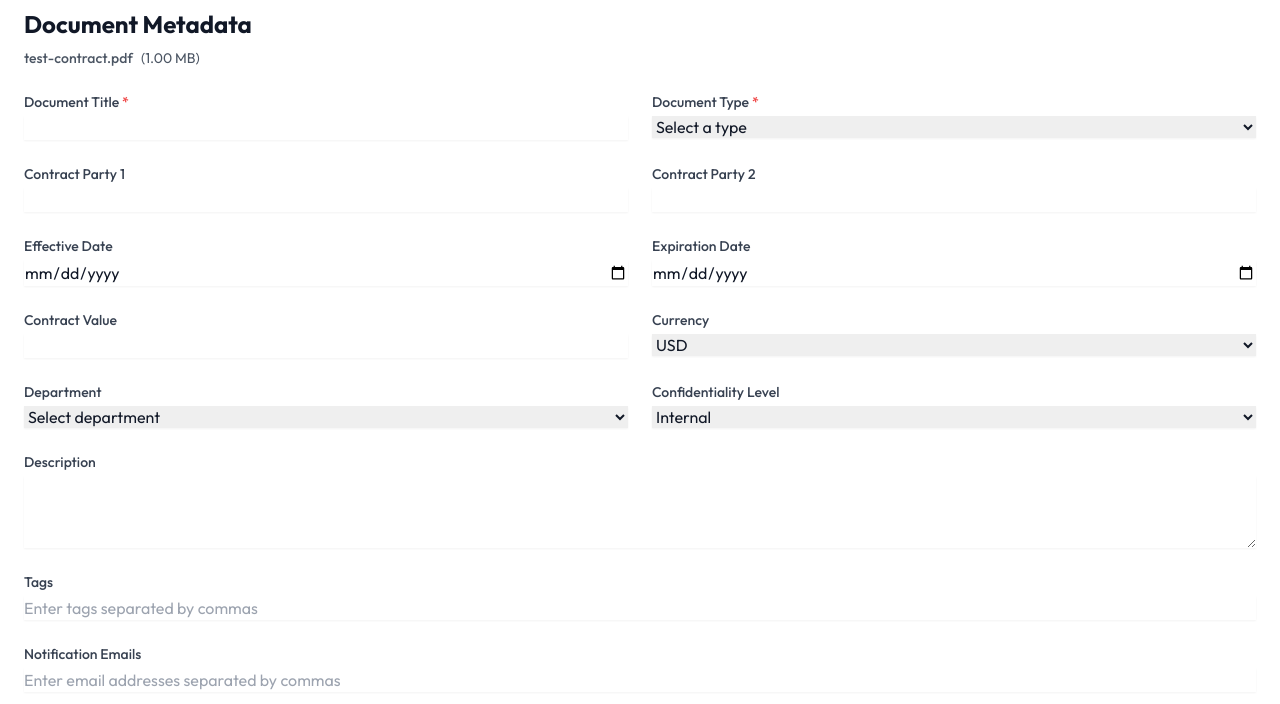
Test: MetadataForm › Form Validation › should validate email format for notification emails
In the field labelled "Notification Emails": [640, 680] box x1=24 y1=668 x2=1256 y2=692, type "invalid-email"
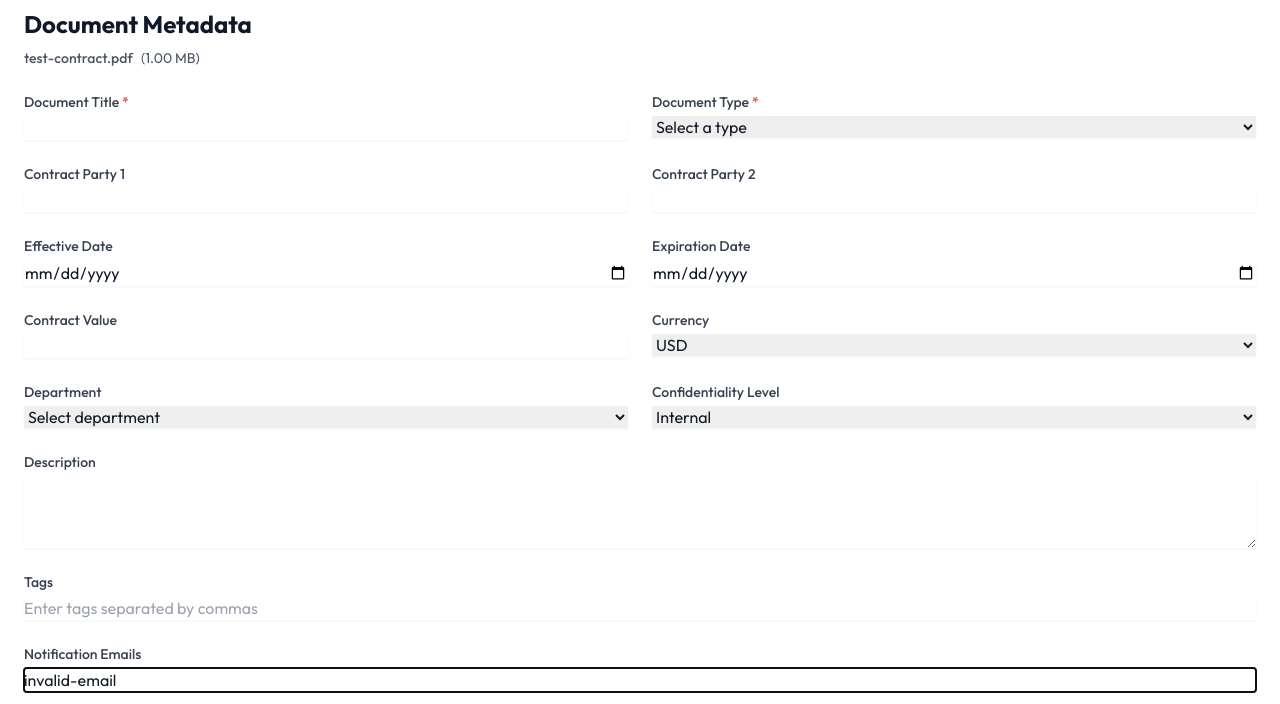
Leave the field labelled "Notification Emails", box x1=24 y1=668 x2=1256 y2=692
(page scrolled)
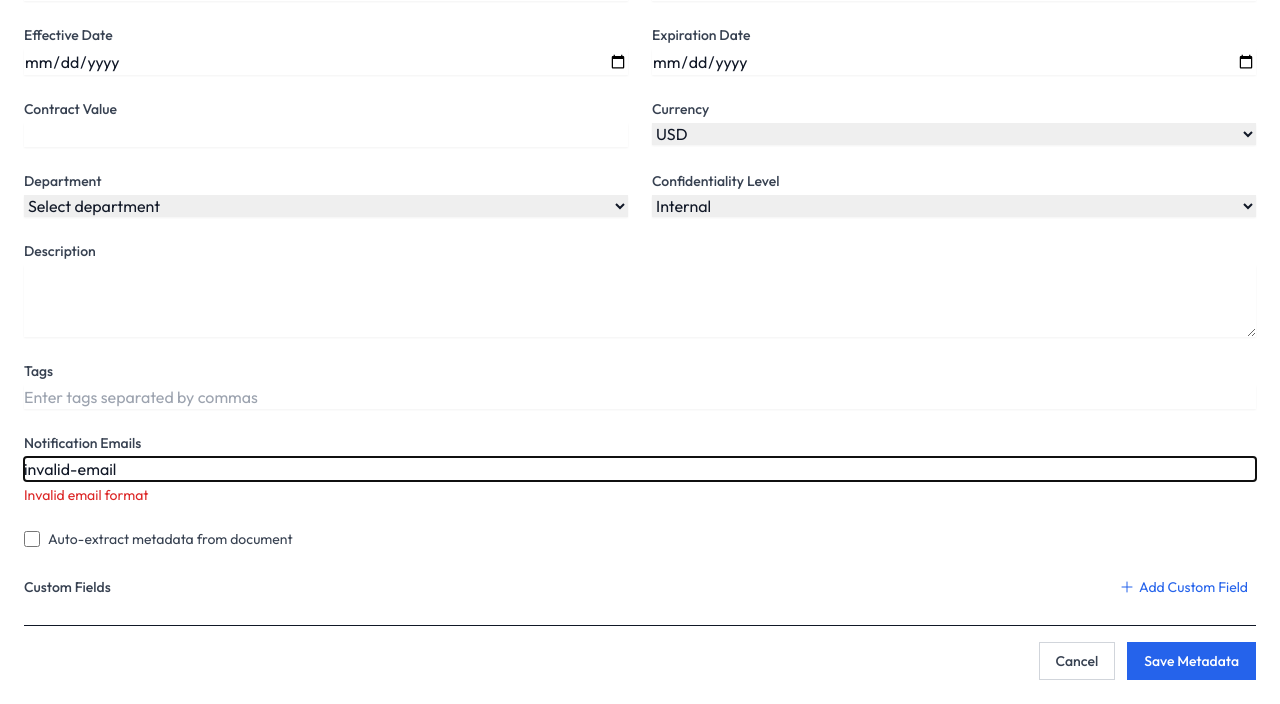
Expected: the text "Invalid email format" is shown, x1=24 y1=486 x2=148 y2=504
